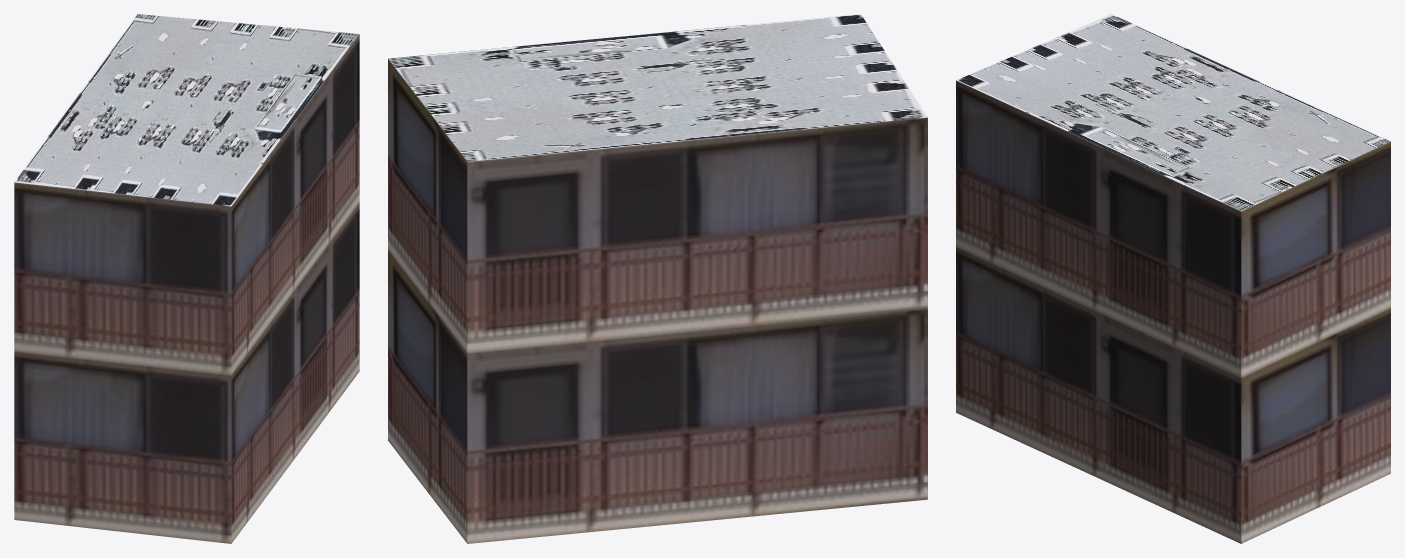
The model's file is ResTex__1689.fbx.
3 views of the same model, side by side, from view 1: azimuth 30°, elevation 25°; view 2: azimuth 150°, elevation 25°; view 3: azimuth 270°, elevation 25° (orthographic). The views are drawn at different scales.
Visible parts, largest first — view 1: CityEngineMaterial_6_m, CityEngineMaterial_8_m; view 2: CityEngineMaterial_6_m, CityEngineMaterial_8_m; view 3: CityEngineMaterial_6_m, CityEngineMaterial_8_m.
Boxes of the visible parts, x1,y1,x2,y2 form: CityEngineMaterial_6_m: [14, 34, 359, 543]; CityEngineMaterial_8_m: [15, 14, 359, 206]; CityEngineMaterial_6_m: [388, 59, 927, 543]; CityEngineMaterial_8_m: [388, 14, 927, 161]; CityEngineMaterial_6_m: [956, 80, 1390, 543]; CityEngineMaterial_8_m: [956, 14, 1390, 211].
Size of the model in its own units: 7.65 by 6 by 7.11.
Materials: 2 (2 with a texture image).
